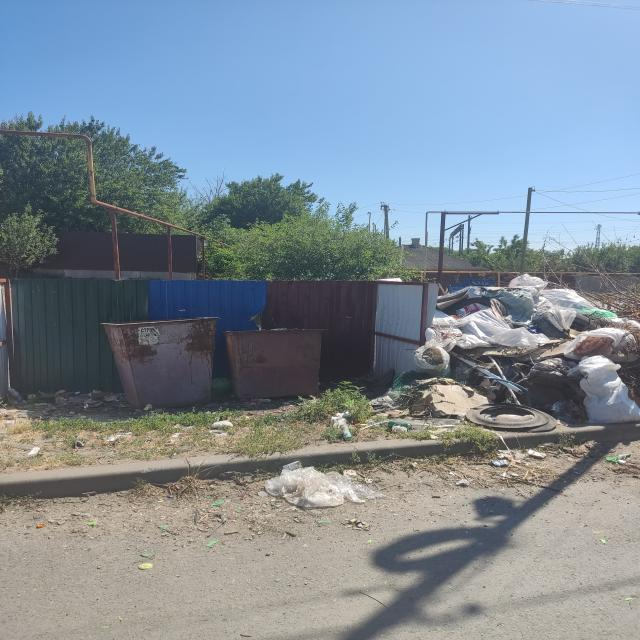bin: (98, 316, 320, 405)
plastic: (432, 278, 638, 434), (245, 456, 383, 510), (373, 366, 430, 432)
